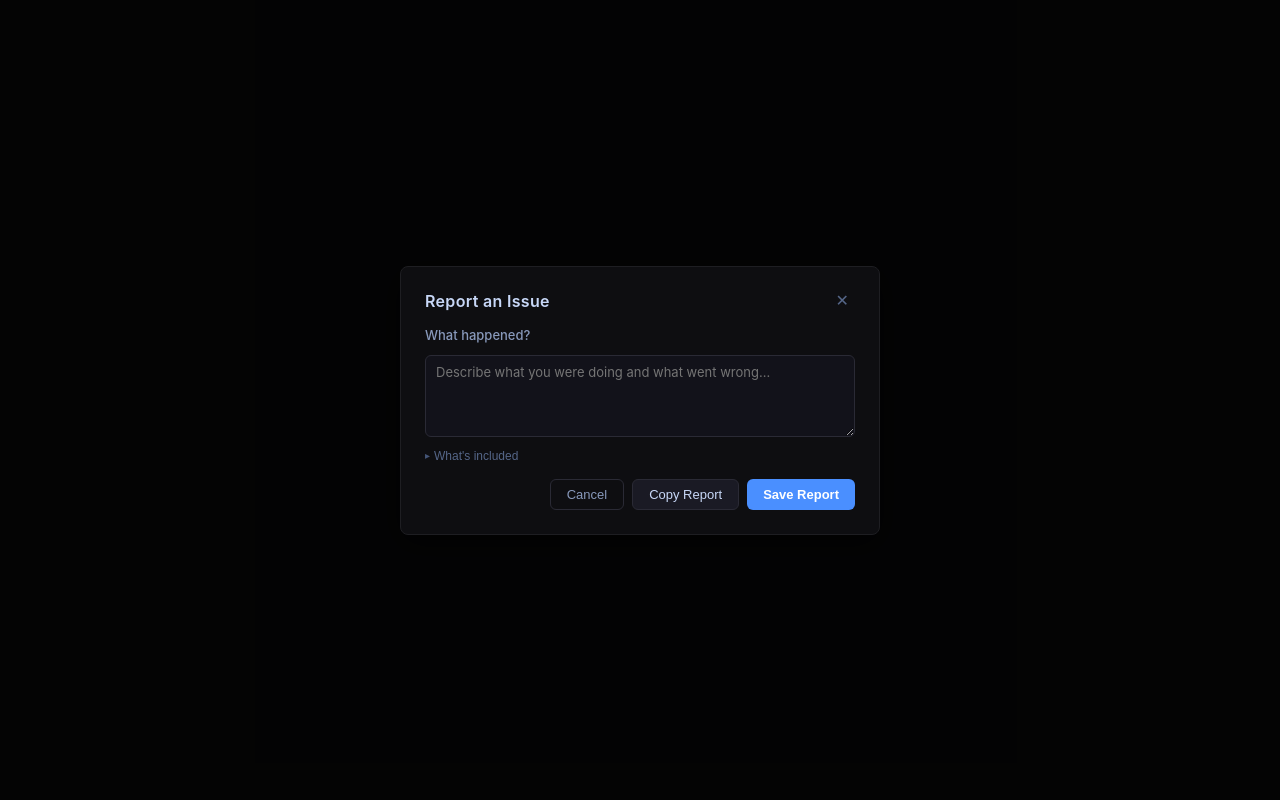
Scenario: BugReportModal — copy report › Copy Report button shows "Copied ✓" after click
This screenshot has width=1280, height=800.
Click the button "Copy Report" at (686, 494), box [632,478,739,510]
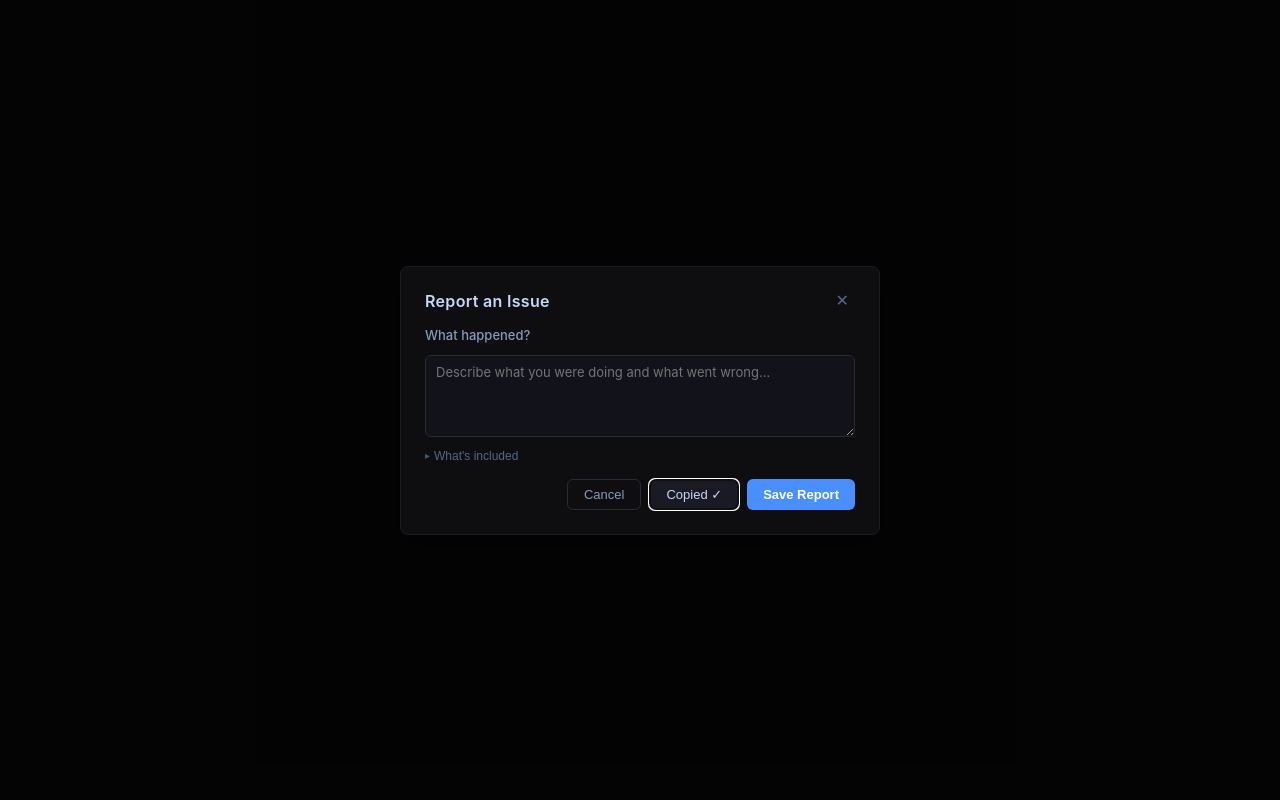
Expected: the button "Copied ✓" is shown, [649,478,739,510]
